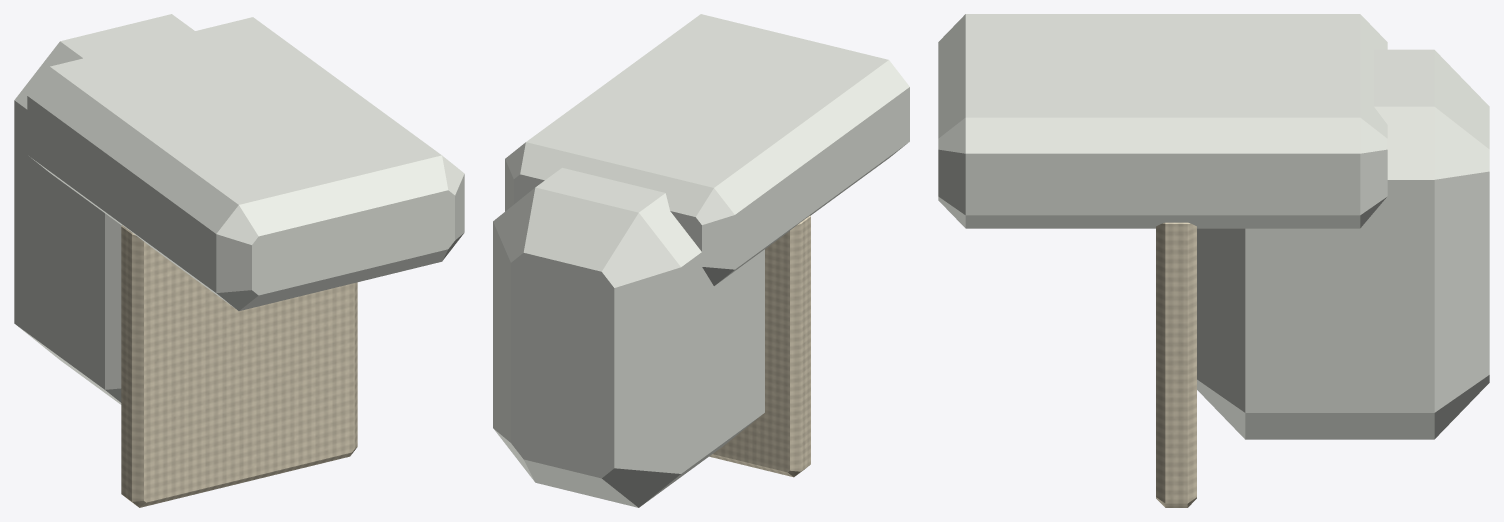
File: master_bath_toilet.obj
The picture shows the model from 3 angles, left to right: view 1: azimuth 30°, elevation 25°; view 2: azimuth 150°, elevation 25°; view 3: azimuth 270°, elevation 25°; orthographic projection. The views are drawn at different scales.
Visible parts, largest first — view 1: master_bath_toilet_ceramic, master_bath_toilet_linen; view 2: master_bath_toilet_ceramic, master_bath_toilet_linen; view 3: master_bath_toilet_ceramic, master_bath_toilet_linen.
Boxes of the visible parts, left/top/right/bottom form: master_bath_toilet_ceramic: left=14, top=14, right=464, bottom=404; master_bath_toilet_linen: left=121, top=225, right=357, bottom=507; master_bath_toilet_ceramic: left=493, top=14, right=909, bottom=507; master_bath_toilet_linen: left=709, top=216, right=810, bottom=477; master_bath_toilet_ceramic: left=938, top=14, right=1489, bottom=439; master_bath_toilet_linen: left=1156, top=222, right=1196, bottom=507.
Bounding box in the file's own units: 22 × 31.5 × 40.5.
2 materials, 2 textured.
